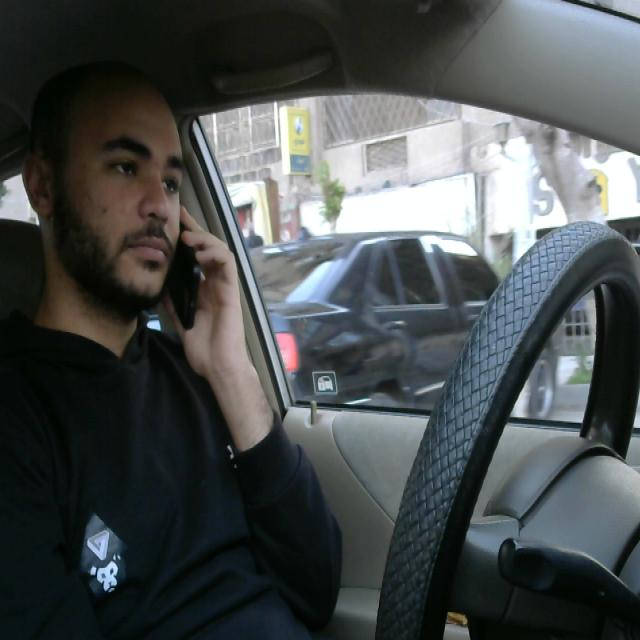mobile use: (152, 221, 206, 338)
